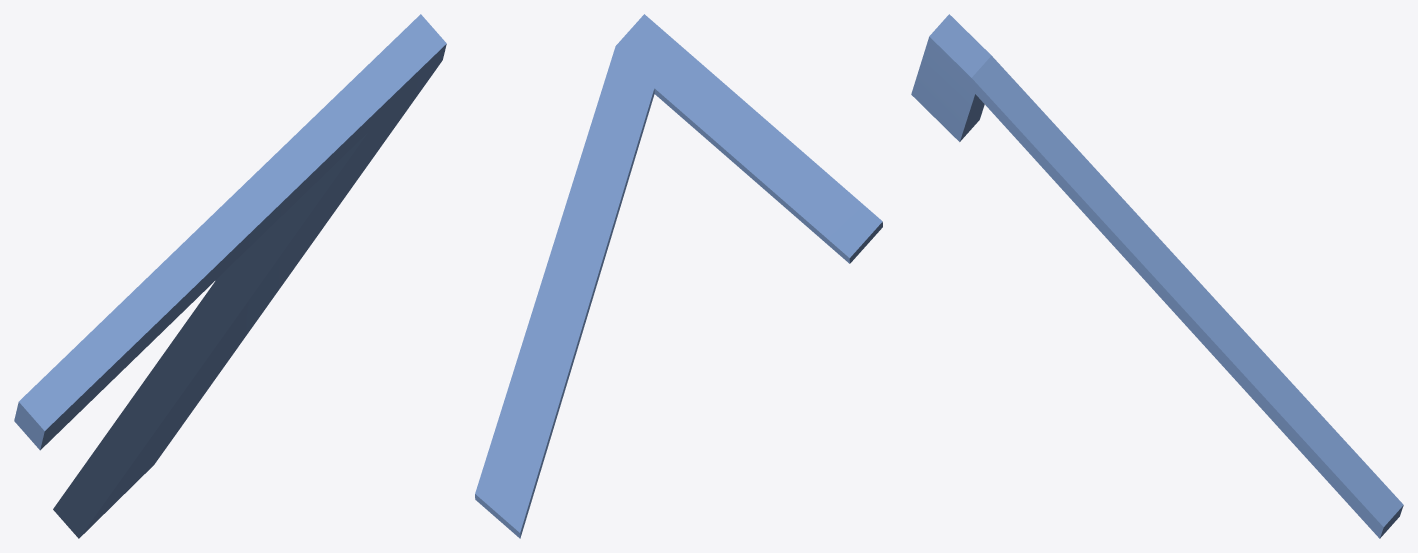
Rendered from New_Number_7.gltf.
3 renders of one model, left to right at view 1: azimuth 30°, elevation 25°; view 2: azimuth 150°, elevation 25°; view 3: azimuth 270°, elevation 25°, orthographic. The views are drawn at different scales.
Parts seen in each view (by area): view 1: Part 241; view 2: Part 241; view 3: Part 241.
Boxes of the visible parts, x1=… form: Part 241: x1=14, y1=14, x2=446, y2=538; Part 241: x1=475, y1=14, x2=882, y2=538; Part 241: x1=911, y1=14, x2=1403, y2=538.
Size of the model in its own units: 0.00336 by 0.0051 by 0.00416.
